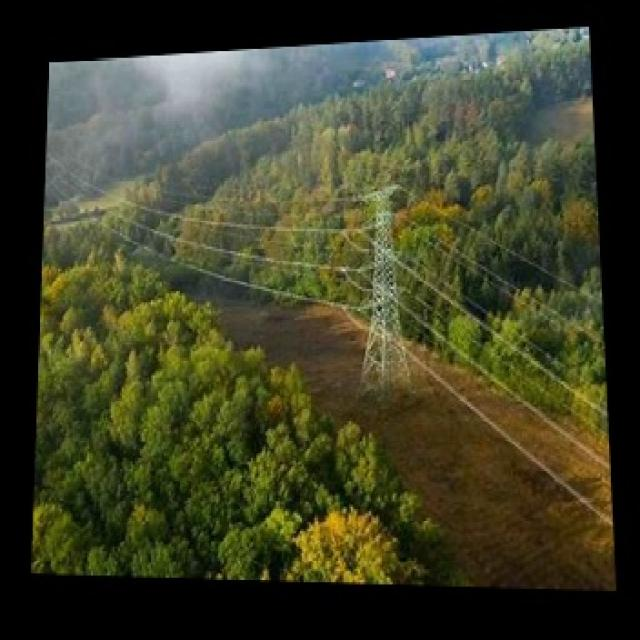utility poles: (333, 151, 434, 402)
